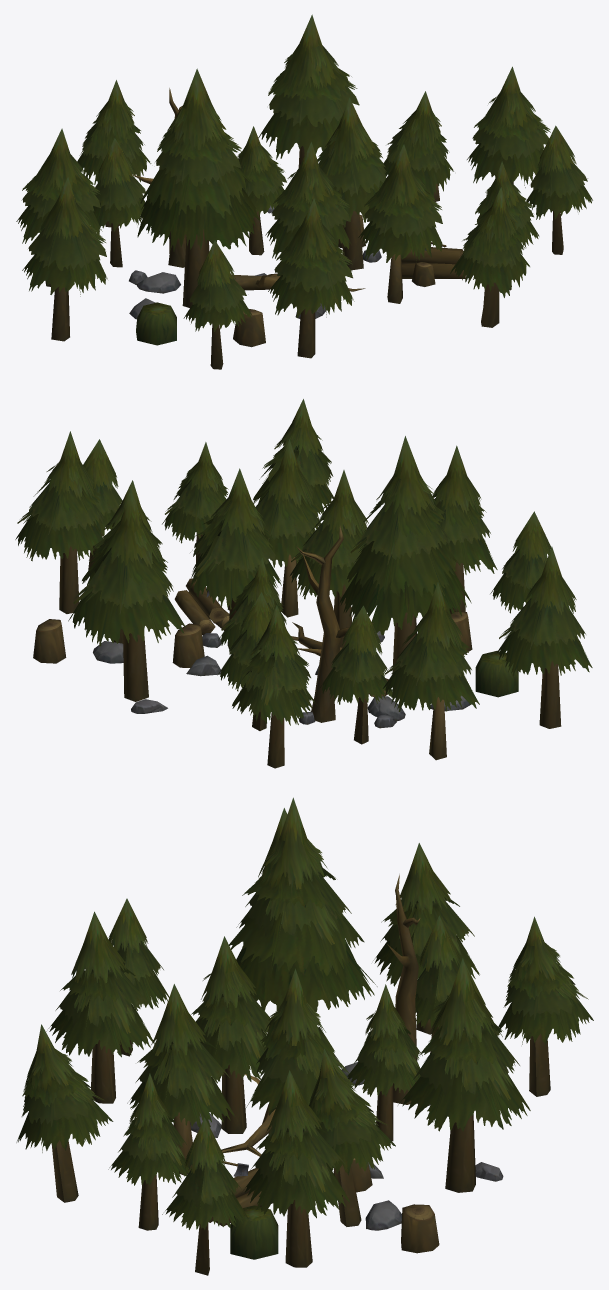
File: WMPine2.FBX
3 renders of one model, top to bottom at view 1: azimuth 30°, elevation 25°; view 2: azimuth 150°, elevation 25°; view 3: azimuth 270°, elevation 25°, orthographic. The views are drawn at different scales.
Visible parts, largest first — view 1: WMPine2; view 2: WMPine2; view 3: WMPine2.
Boxes of the visible parts, x1,y1,x2,y2 form: WMPine2: [16, 14, 592, 369]; WMPine2: [15, 399, 592, 768]; WMPine2: [16, 797, 593, 1275].
Bounding box in the file's own units: 1.72 × 0.7559 × 1.36.
1 material, 1 textured.
